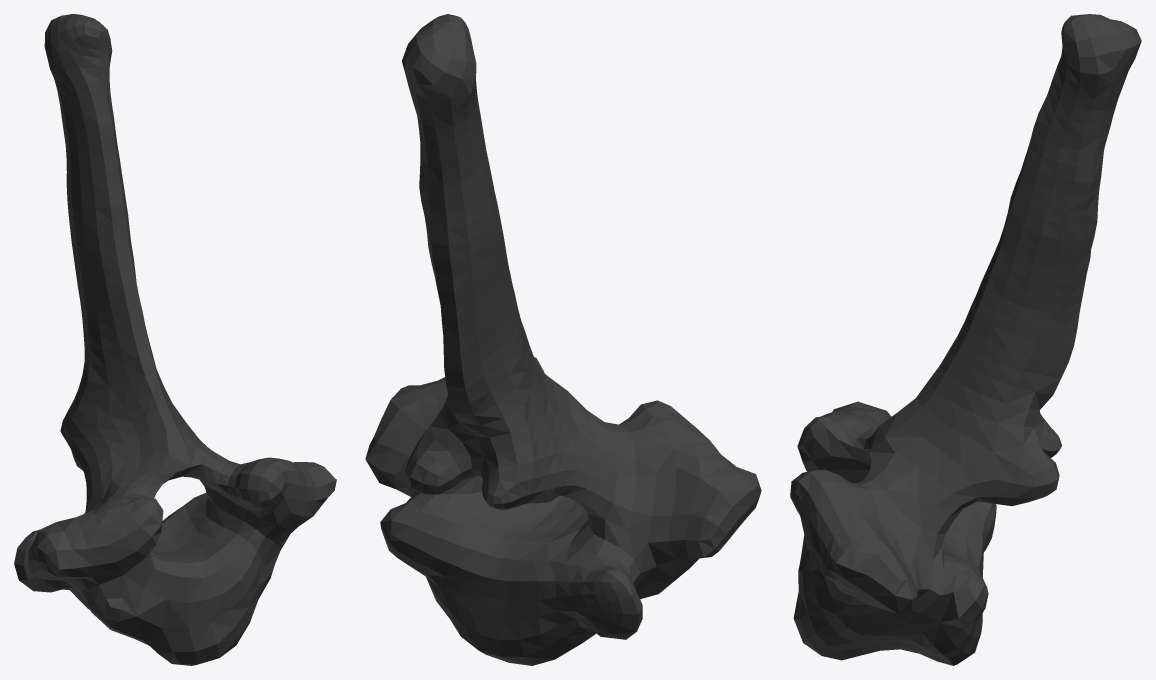
The picture shows the model from 3 angles, left to right: view 1: azimuth 30°, elevation 25°; view 2: azimuth 150°, elevation 25°; view 3: azimuth 270°, elevation 25°; orthographic projection. The views are drawn at different scales.
Visible parts, largest first — view 1: T2; view 2: T2; view 3: T2.
Boxes of the visible parts, bbox=[...] form: T2: bbox=[14, 14, 336, 665]; T2: bbox=[365, 14, 761, 665]; T2: bbox=[790, 14, 1141, 665].
Bounding box in the file's own units: 2.38 × 4.38 × 2.19.
Materials: 1 (1 with a texture image).
